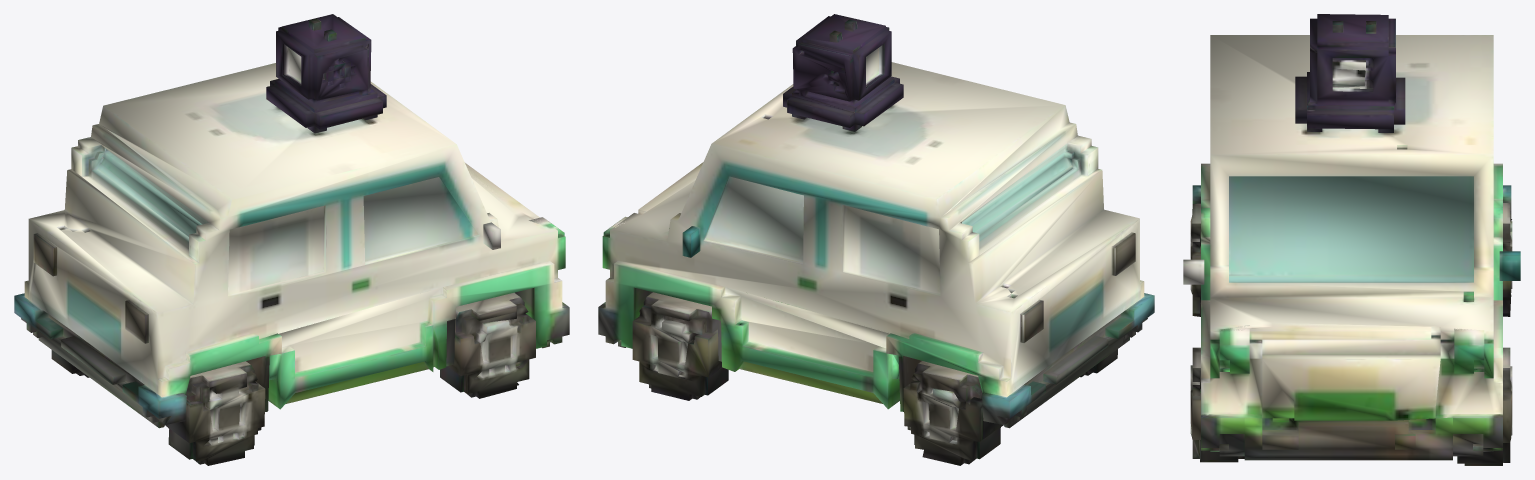
Rendered from waymo-minivan.glb.
3 views of the same model, side by side, from view 1: azimuth 30°, elevation 25°; view 2: azimuth 150°, elevation 25°; view 3: azimuth 270°, elevation 25° (orthographic). The views are drawn at different scales.
Visible parts, largest first — view 1: tripo_node_6e9deb38-1146-4ff7-9812-f282a50316fc; view 2: tripo_node_6e9deb38-1146-4ff7-9812-f282a50316fc; view 3: tripo_node_6e9deb38-1146-4ff7-9812-f282a50316fc.
Part boxes in pixels (x1,y1,x2,y2): tripo_node_6e9deb38-1146-4ff7-9812-f282a50316fc: (14,14,569,465); tripo_node_6e9deb38-1146-4ff7-9812-f282a50316fc: (598,14,1154,465); tripo_node_6e9deb38-1146-4ff7-9812-f282a50316fc: (1183,14,1520,465).
Bounding box in the file's own units: 0.998 × 0.7794 × 0.6348.
1 material, 1 textured.
